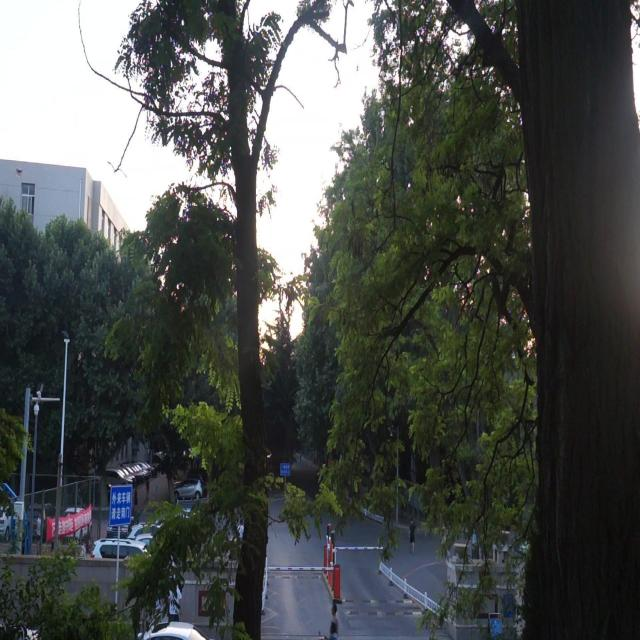UAV: (13, 166, 23, 176)
